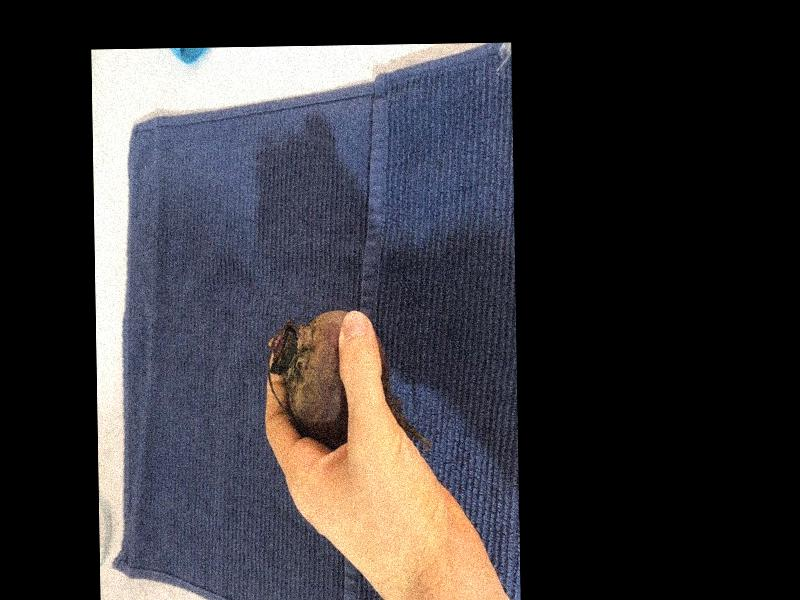Beet: (268, 307, 432, 447)
